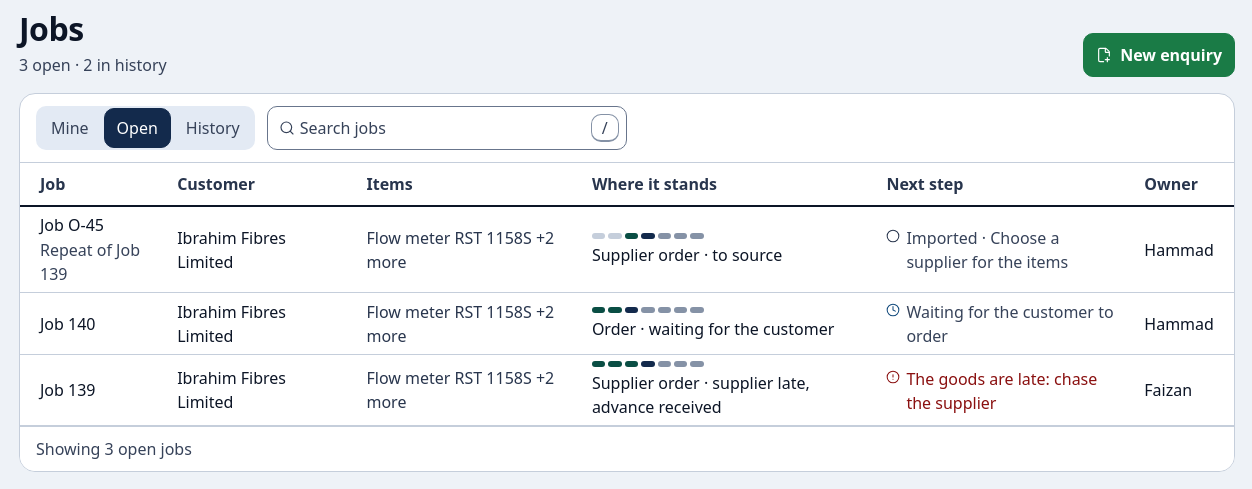
Test: Jobs list › History shows only the rows the database marks is_history
The width and height of the screenshot is (1252, 489).
Expected: the row "Job 139" is shown, [20,207,1234,293]
Click the radio button labelled "History": coordinates (213, 128) [173,108,253,148]
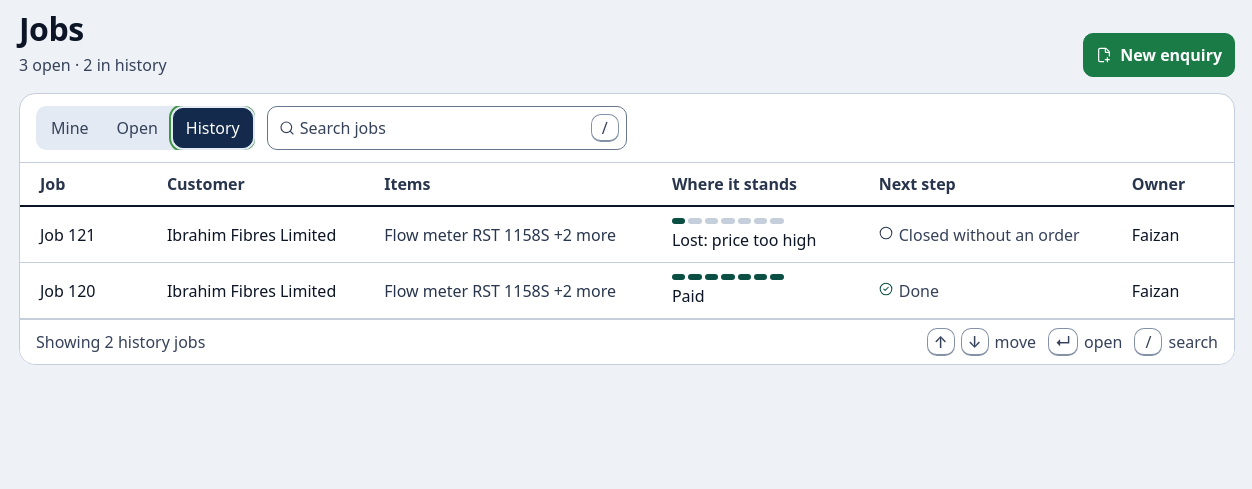
Result: the row "Job 120" is shown at [20,263,1234,319]
Result: the row "Job 121" shows "Lost: price too high" at [672,228,816,250]
Result: no elements "Job 139" are shown
